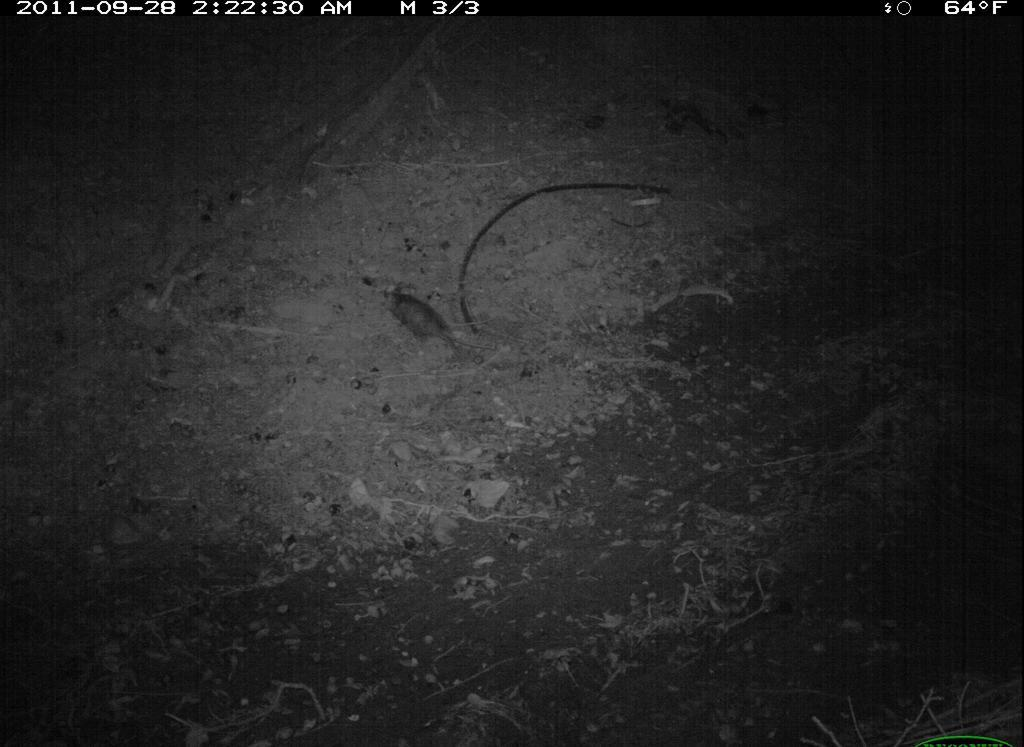opossum: (369, 263, 502, 374)
